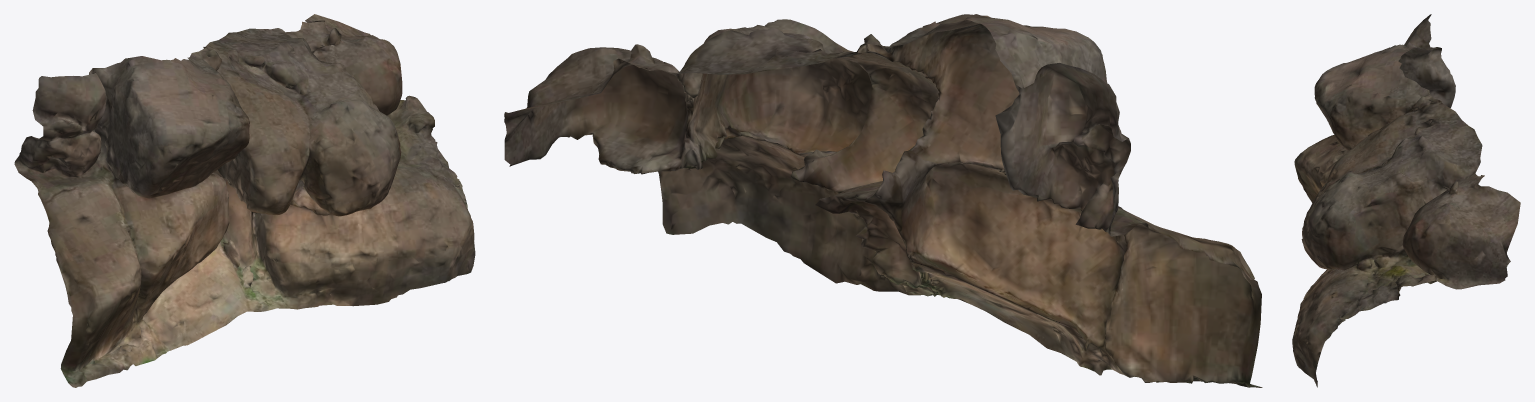
Rendered from namaqualand_cliff_01.glb.
3 renders of one model, left to right at view 1: azimuth 30°, elevation 25°; view 2: azimuth 150°, elevation 25°; view 3: azimuth 270°, elevation 25°, orthographic. The views are drawn at different scales.
Visible parts, largest first — view 1: drone_rock_01; view 2: drone_rock_01; view 3: drone_rock_01.
Part boxes in pixels (x1=…): drone_rock_01: x1=14, y1=14, x2=475, y2=387; drone_rock_01: x1=504, y1=14, x2=1262, y2=387; drone_rock_01: x1=1292, y1=14, x2=1520, y2=387.
Bounding box in the file's own units: 8.28 × 4.96 × 4.39.
1 material, 1 textured.
